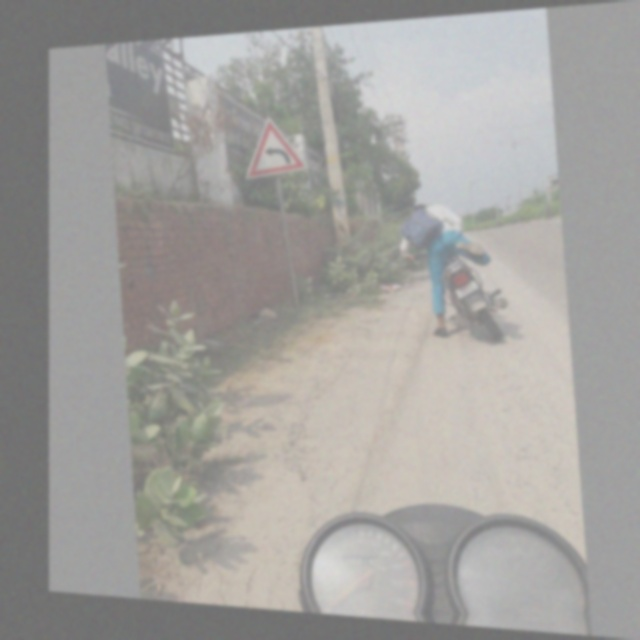Left_Hand_Curve: (238, 111, 309, 184)
